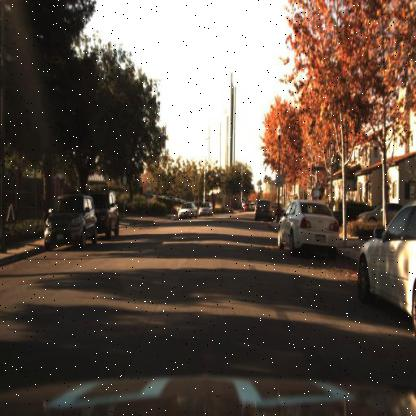car: (356, 205, 415, 328), (274, 195, 344, 254), (42, 194, 98, 253), (356, 202, 409, 229), (92, 188, 118, 243), (252, 194, 274, 224), (177, 202, 198, 221), (199, 201, 213, 217)
